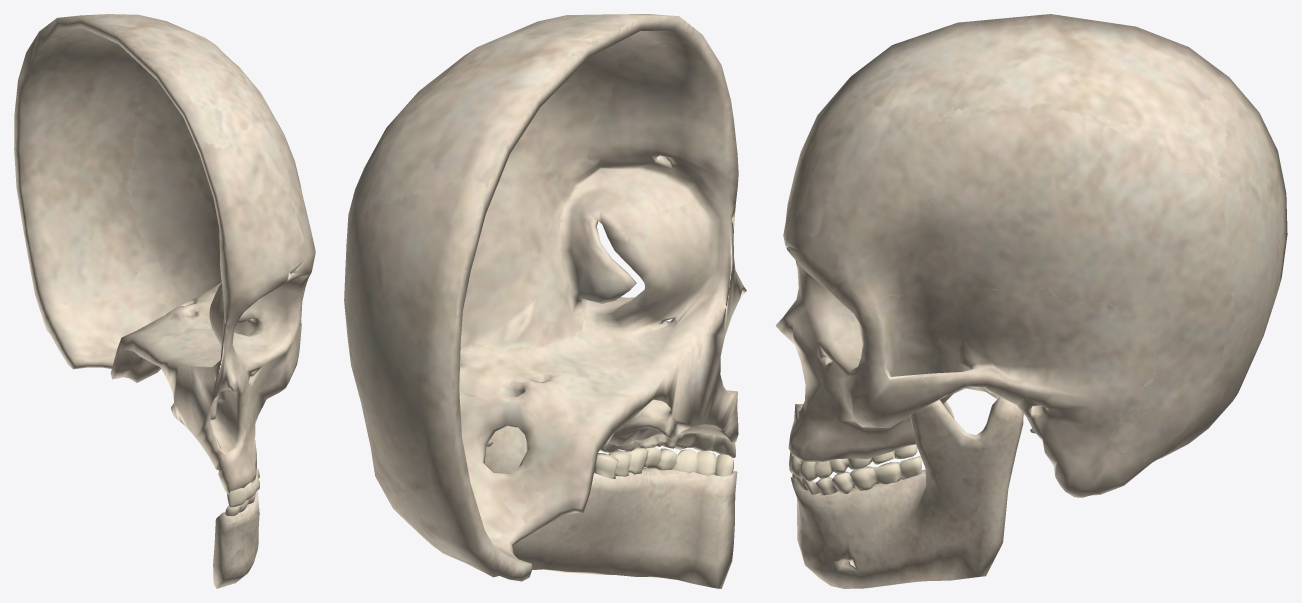
Rendered from HalfSkull.FBX.
The picture shows the model from 3 angles, left to right: view 1: azimuth 30°, elevation 25°; view 2: azimuth 150°, elevation 25°; view 3: azimuth 270°, elevation 25°; orthographic projection. The views are drawn at different scales.
Visible parts, largest first — view 1: HalfSkull, HalfJaw, HalfTeethUpper; view 2: HalfSkull, HalfJaw, HalfTeethLower, HalfTeethUpper; view 3: HalfSkull, HalfJaw, HalfTeethLower, HalfTeethUpper.
Part boxes in pixels (<box>): HalfSkull: <box>14,14,315,494</box>; HalfJaw: <box>213,415,259,588</box>; HalfTeethUpper: <box>227,468,259,507</box>; HalfSkull: <box>344,14,746,581</box>; HalfJaw: <box>484,426,737,588</box>; HalfTeethLower: <box>594,447,733,478</box>; HalfTeethUpper: <box>600,433,735,457</box>; HalfSkull: <box>775,14,1287,497</box>; HalfJaw: <box>790,397,1023,588</box>; HalfTeethLower: <box>792,456,921,495</box>; HalfTeethUpper: <box>789,444,917,482</box>.
Bounding box in the file's own units: 6.06 × 19.21 × 16.06.
